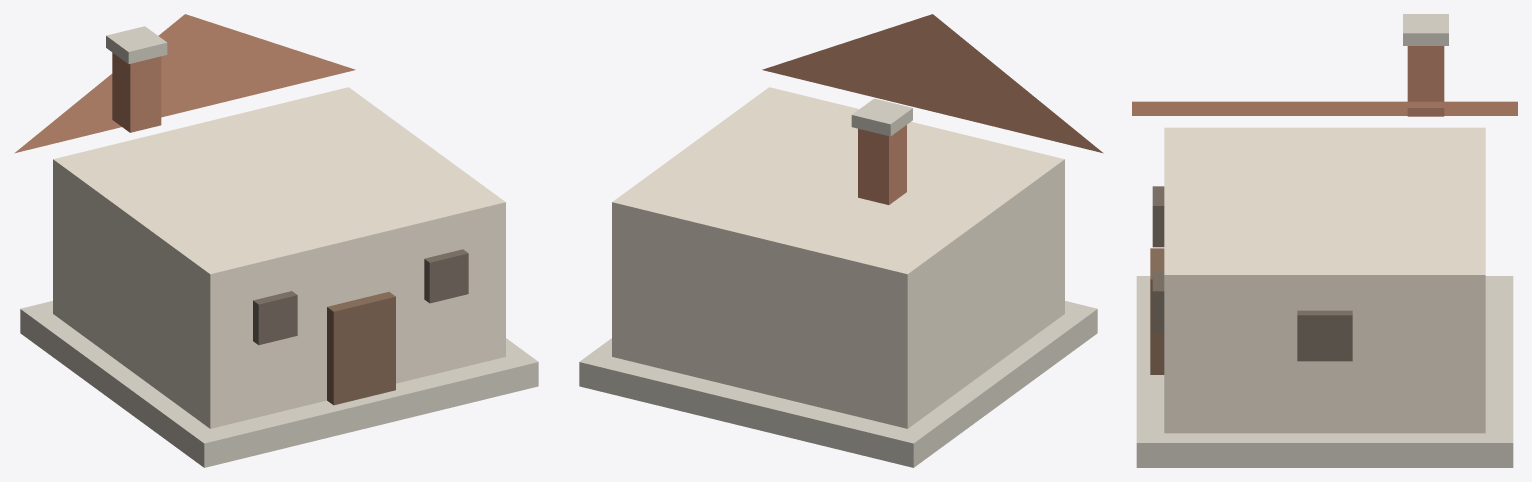
The model's file is domus.glb.
3 views of the same model, side by side, from view 1: azimuth 30°, elevation 25°; view 2: azimuth 150°, elevation 25°; view 3: azimuth 270°, elevation 25° (orthographic). The views are drawn at different scales.
Parts seen in each view (by area): view 1: domus; view 2: domus; view 3: domus.
Part boxes in pixels (box(x1,y1,x2,y2)): domus: box(14, 14, 538, 467); domus: box(579, 14, 1103, 467); domus: box(1132, 14, 1517, 467).
Size of the model in its own units: 0.88 by 0.755 by 0.84.
